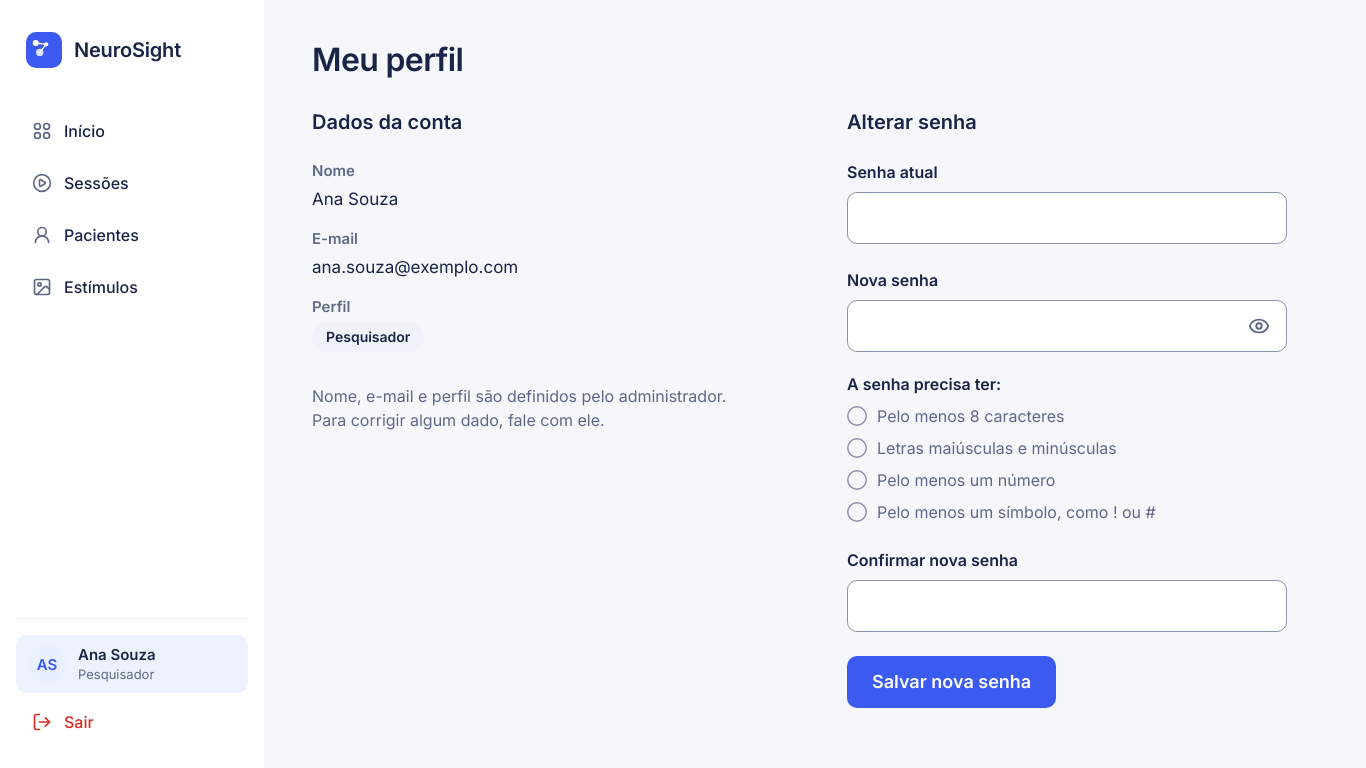
Test: W05 Meu perfil › senha atual errada aparece no campo; a troca certa limpa o formulário
The width and height of the screenshot is (1366, 768).
Type "errada" into the password field labelled "Senha atual".
click(1067, 218); type("errada")  # box [847,192,1287,244]
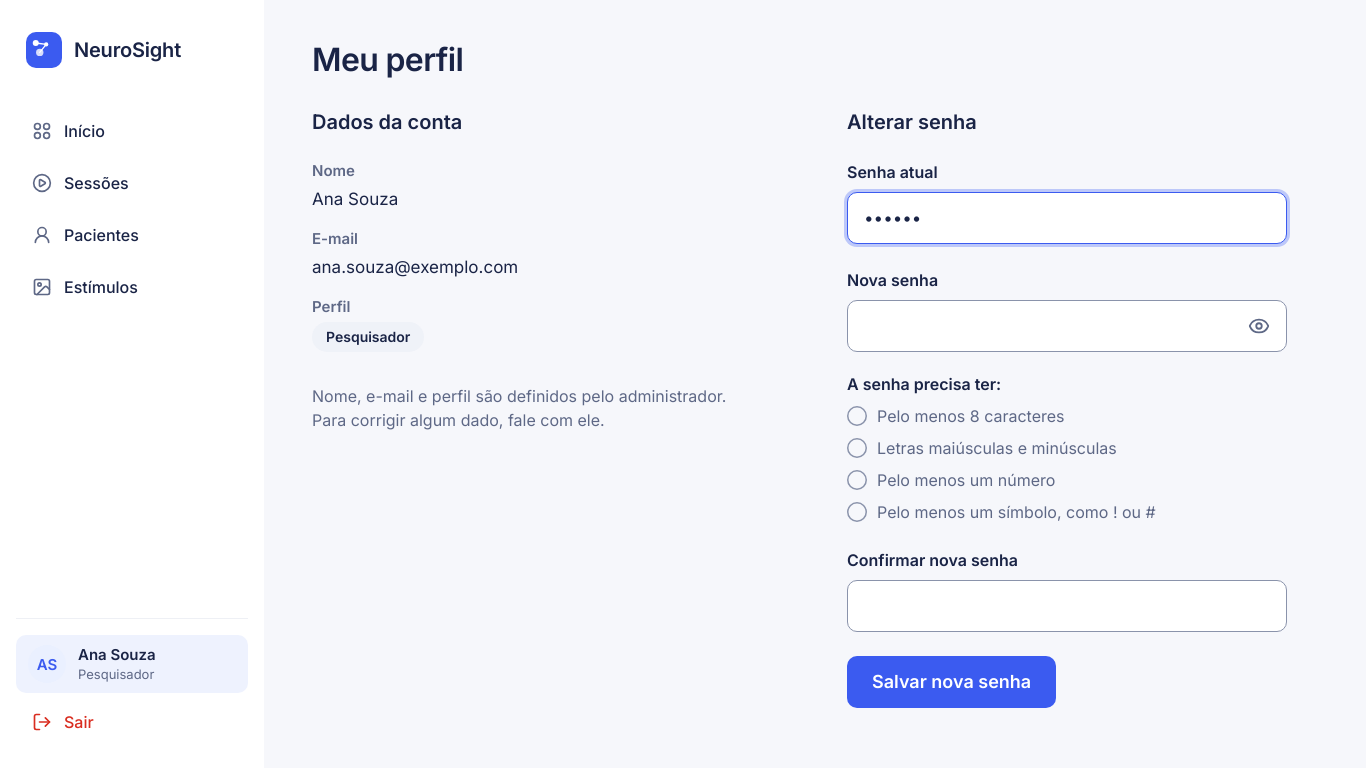
Type "Nova#senha9" into the password field labelled "Nova senha".
click(1067, 326); type("Nova#senha9")  # box [847,300,1287,352]
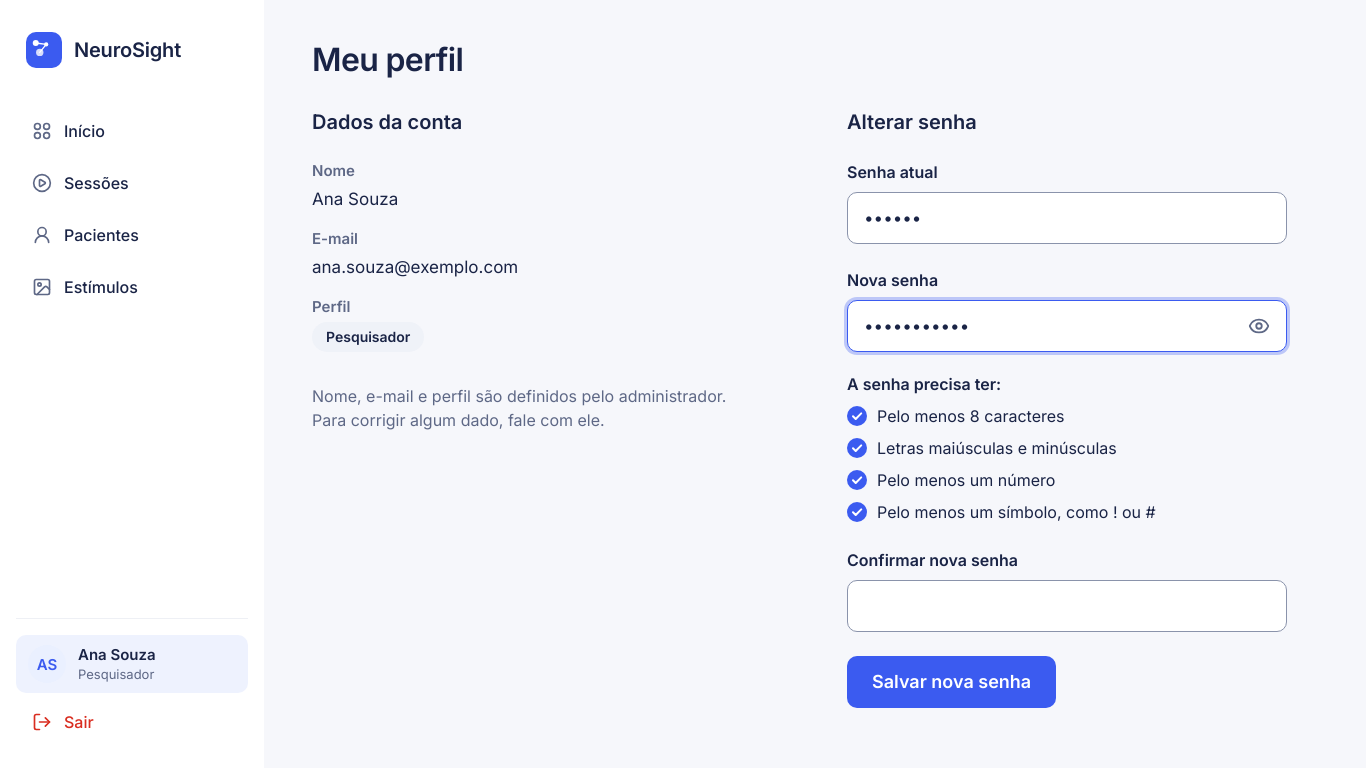
Type "Nova#senha9" into the password field labelled "Confirmar nova senha".
click(1067, 606); type("Nova#senha9")  # box [847,580,1287,632]
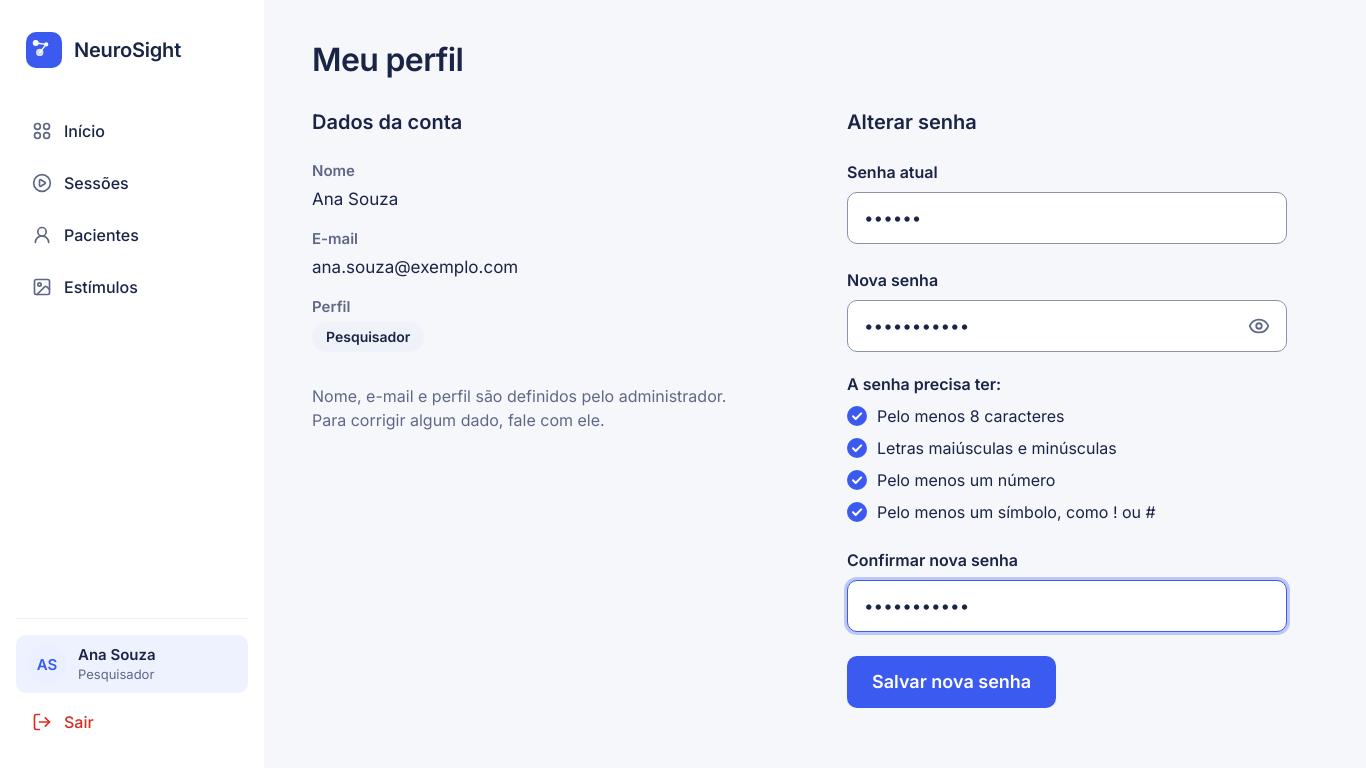
Click the button "Salvar nova senha".
click(952, 682)  # box [847,656,1056,708]
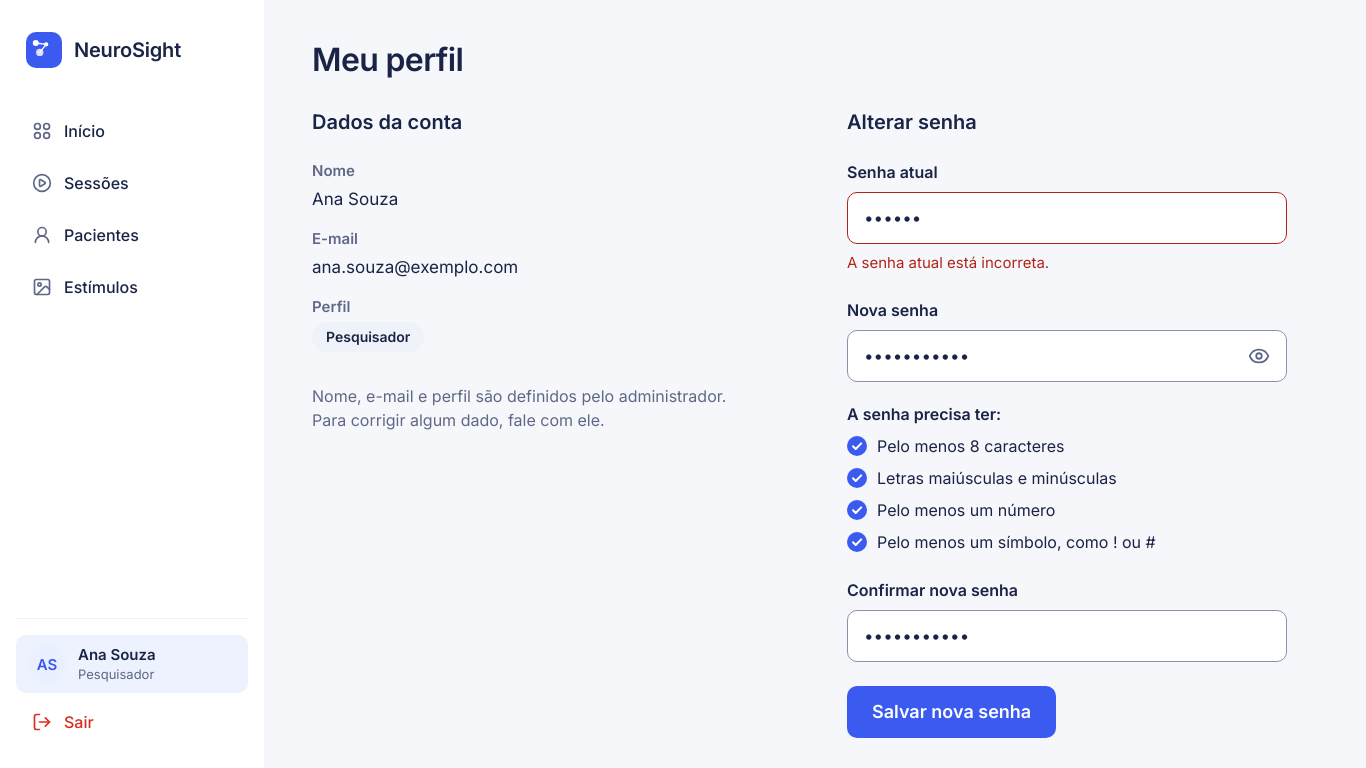
Now the text "A senha atual está incorreta." is shown, box [847,253,1049,272]
Type "Senha#forte1" into the password field labelled "Senha atual".
click(1067, 218); type("Senha#forte1")  # box [847,192,1287,244]
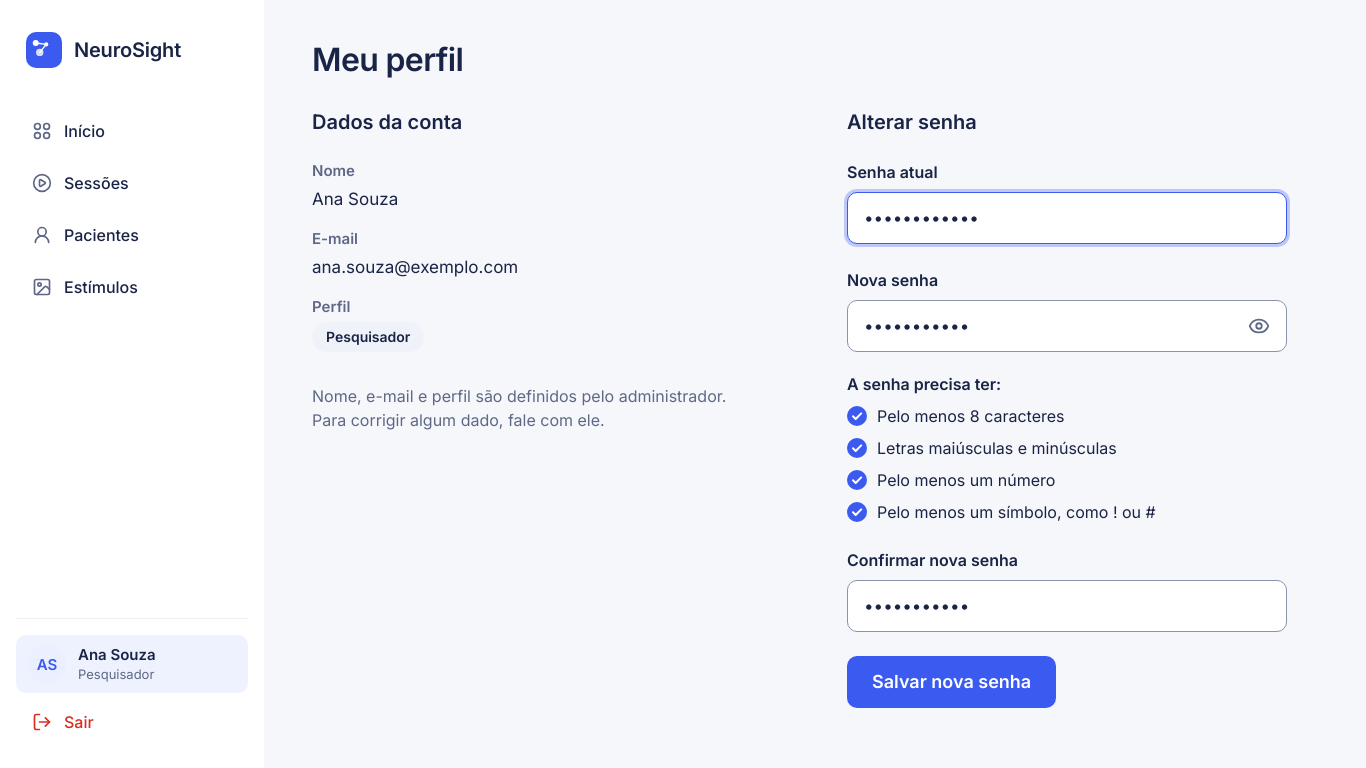
Click the button "Salvar nova senha".
click(952, 682)  # box [847,656,1056,708]
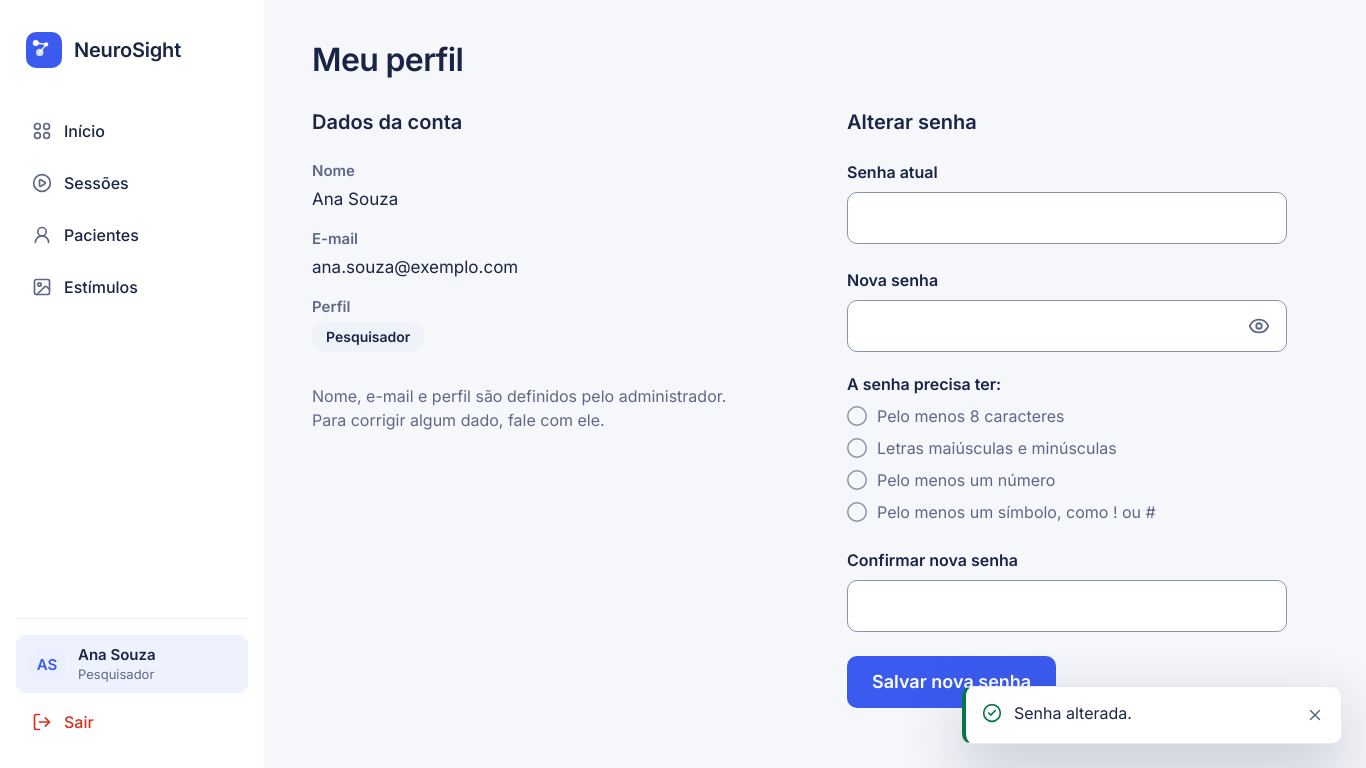
Now the text "Senha alterada." is shown, box [1014,703,1132,723]
Now the password field labelled "Senha atual" is empty, box [847,192,1287,244]
